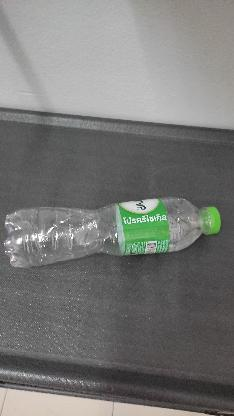Plastic Bottle: (4, 194, 229, 272)
